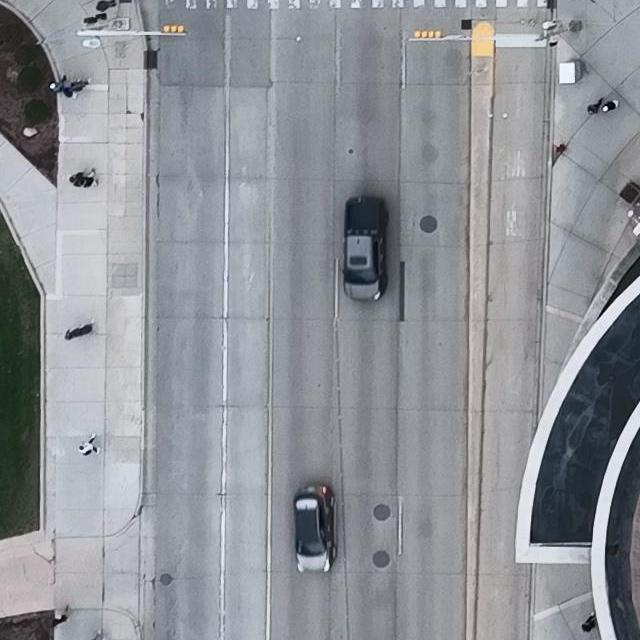car: (339, 196, 389, 303), (293, 484, 336, 575)
